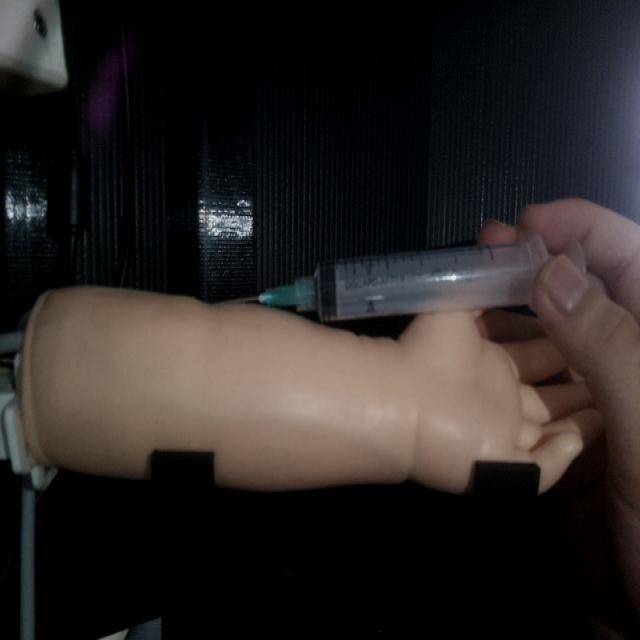Below 15 degrees: (231, 228, 569, 324)
